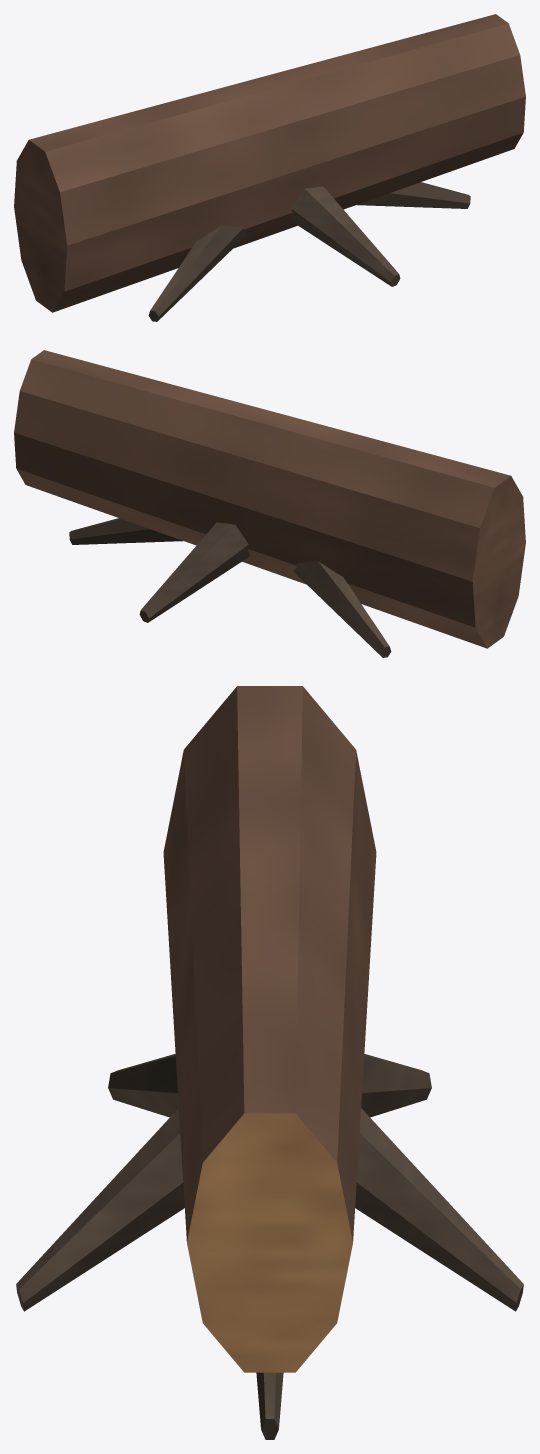
File: log_fallen_01.fbx
The picture shows the model from 3 angles, top to bottom: view 1: azimuth 30°, elevation 25°; view 2: azimuth 150°, elevation 25°; view 3: azimuth 270°, elevation 25°; orthographic projection. The views are drawn at different scales.
Parts seen in each view (by area): view 1: log_fallen_01; view 2: log_fallen_01; view 3: log_fallen_01.
Boxes of the visible parts, bbox=[...] form: log_fallen_01: bbox=[14, 14, 525, 321]; log_fallen_01: bbox=[14, 350, 525, 657]; log_fallen_01: bbox=[16, 686, 523, 1439].
Bounding box in the file's own units: 300 × 110 × 140.
1 material, 1 textured.
